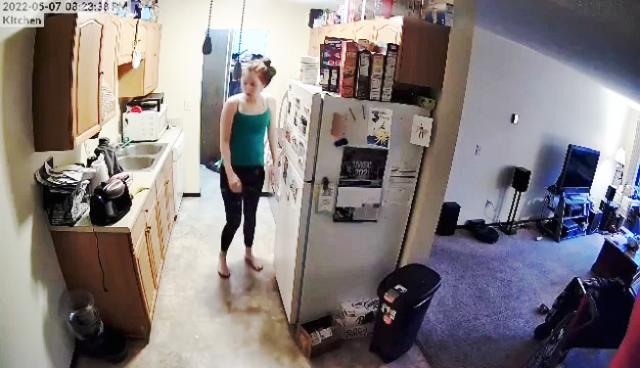berdiri: (213, 62, 279, 284)
